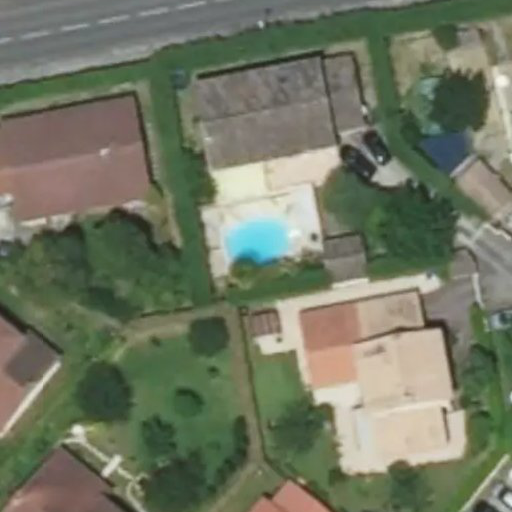pool: (215, 225, 296, 258)
